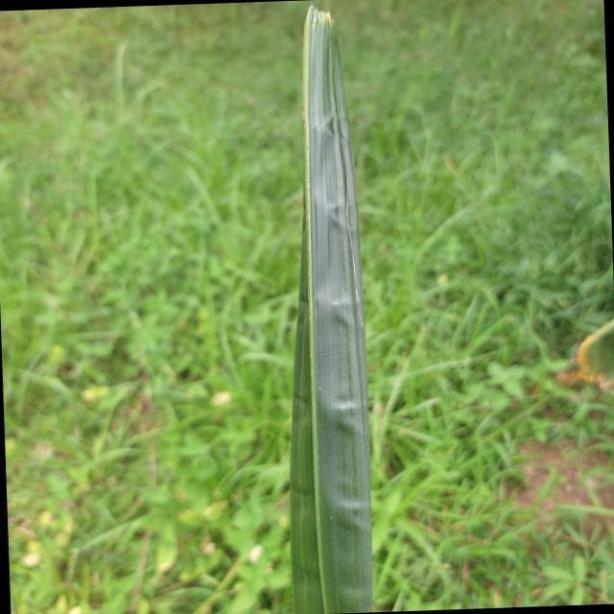Boron: (288, 0, 374, 614)
